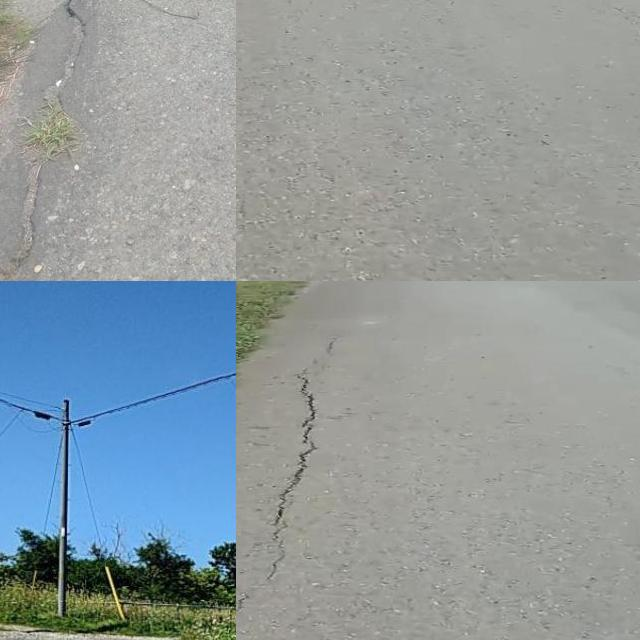Memanjang: (236, 358, 366, 640)
Pinggir: (0, 0, 109, 281), (236, 281, 326, 419)
